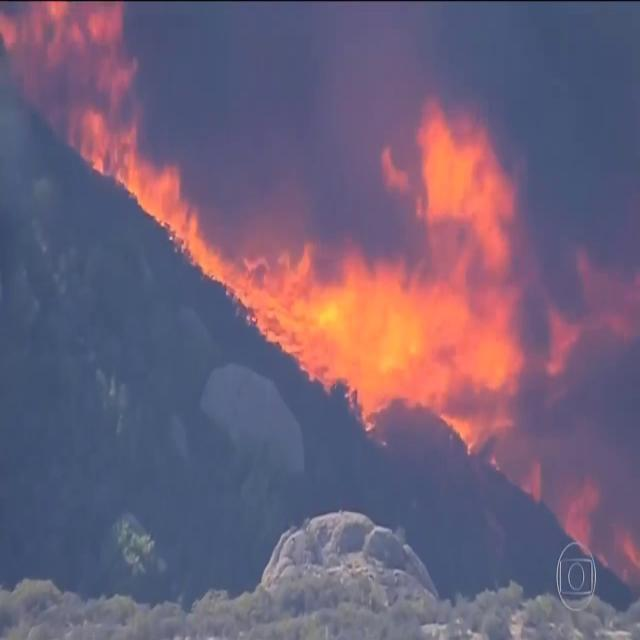Fire: (410, 278, 518, 452), (416, 100, 514, 280), (294, 243, 410, 379), (0, 2, 138, 104), (233, 256, 293, 351), (64, 105, 136, 183), (563, 464, 599, 552), (130, 162, 180, 218), (346, 370, 402, 416), (165, 202, 206, 254), (382, 142, 412, 201), (198, 242, 232, 282), (616, 529, 640, 584), (524, 463, 542, 502)
Smoke: (515, 0, 640, 464), (136, 2, 416, 140), (179, 143, 384, 242), (417, 0, 515, 98)
